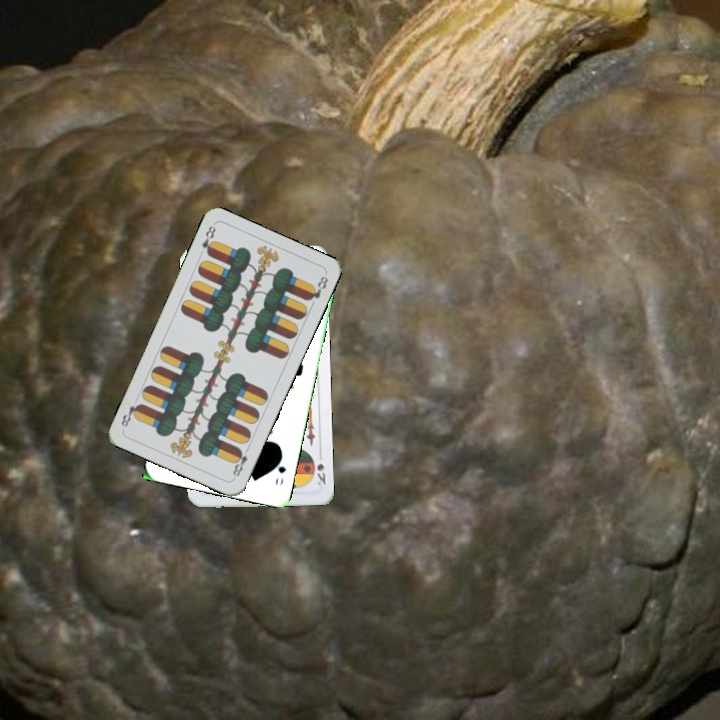E8: (229, 443, 252, 479), (198, 221, 219, 258)
GO: (271, 450, 289, 488)
SK: (313, 459, 328, 488)
